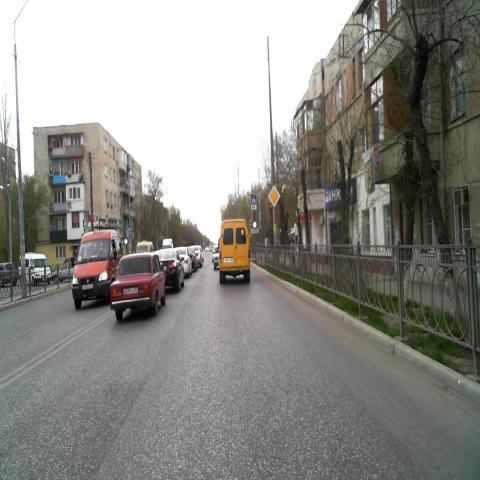2_1: (268, 186, 280, 207)
5_19_1: (252, 193, 257, 203)
